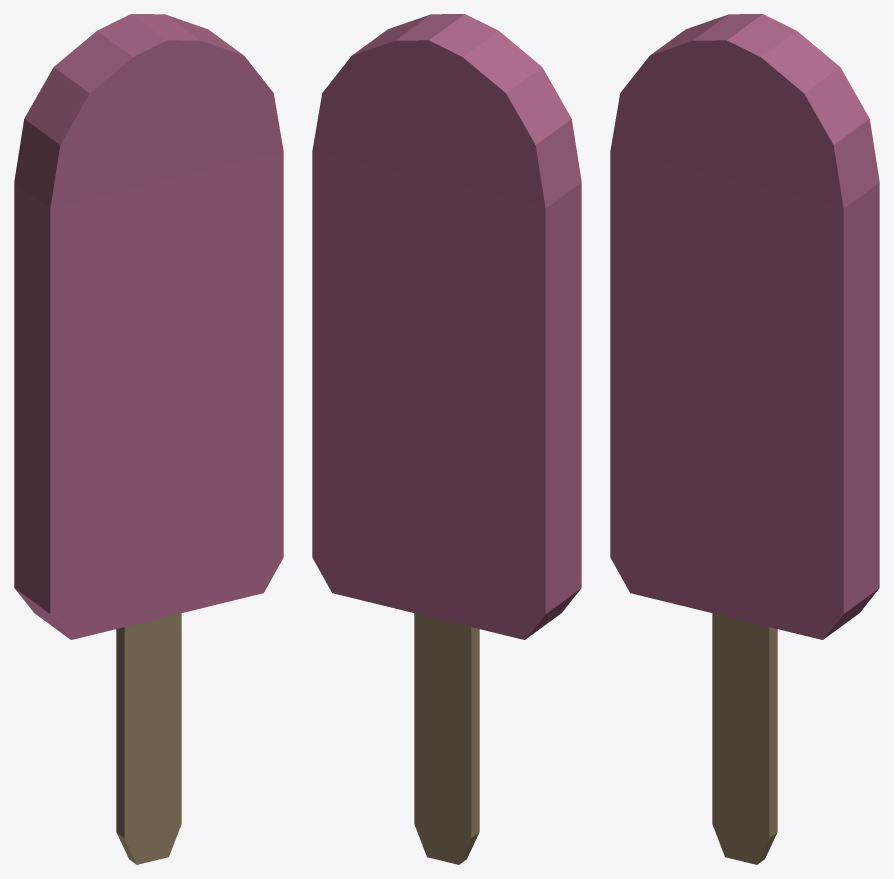
Rendered from quaternius-ultimate-food-popsicle-strawberry.glb.
3 renders of one model, left to right at view 1: azimuth 30°, elevation 25°; view 2: azimuth 150°, elevation 25°; view 3: azimuth 330°, elevation 25°, orthographic.
Visible parts, largest first — view 1: Popsicle_Strawberry; view 2: Popsicle_Strawberry; view 3: Popsicle_Strawberry.
Part boxes in pixels (bbox=[...]): Popsicle_Strawberry: bbox=[14, 14, 283, 864]; Popsicle_Strawberry: bbox=[312, 14, 581, 864]; Popsicle_Strawberry: bbox=[610, 14, 879, 864].
Size of the model in its own units: 0.291 by 0.99 by 0.0799.
